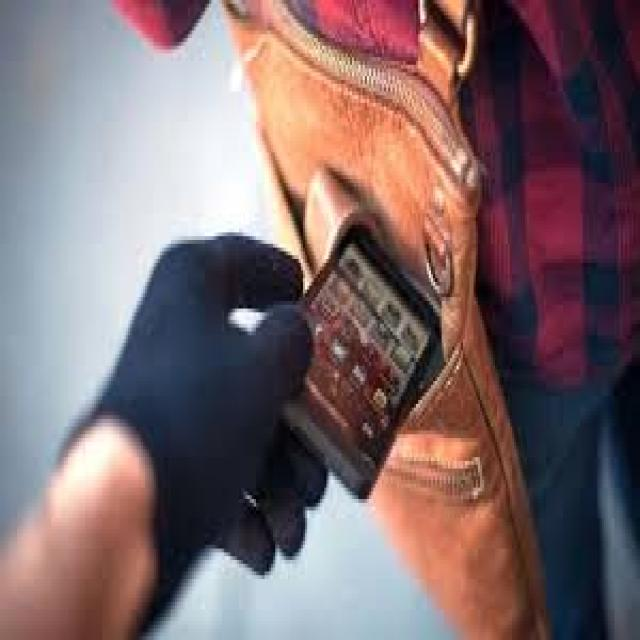Theft_Snatching: (132, 138, 534, 551)
